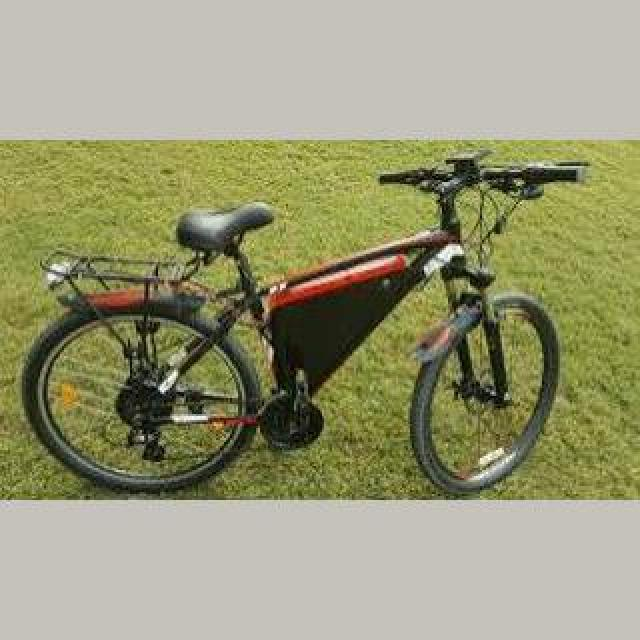Person: (20, 148, 590, 500)
